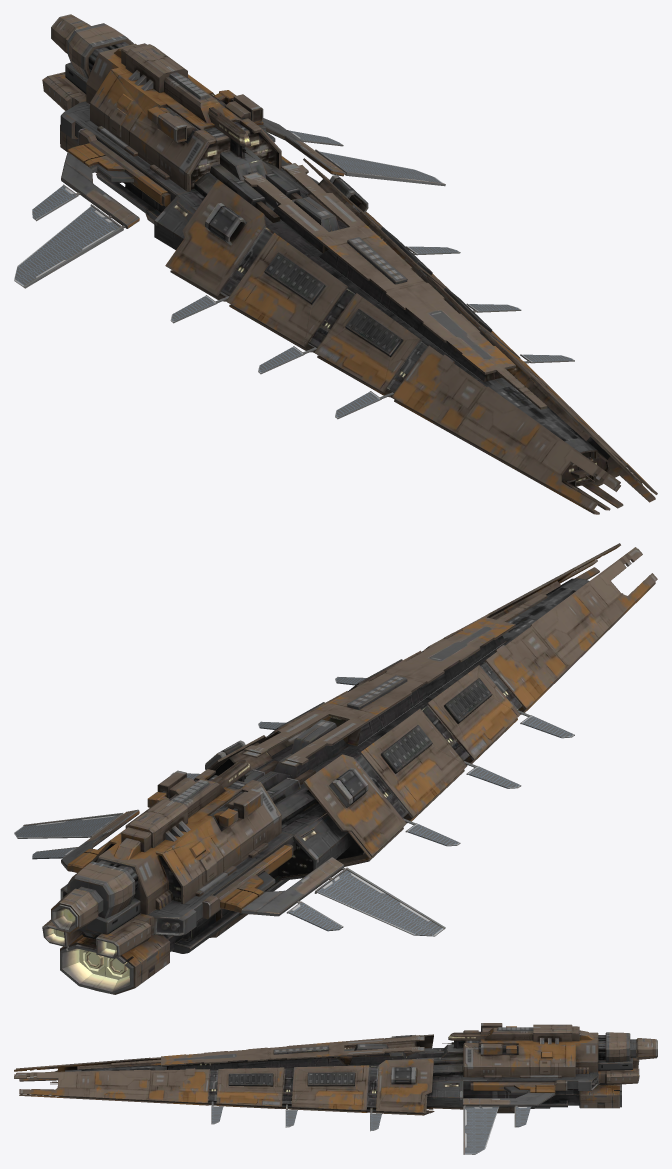
Rendered from 24702_lite.glb.
3 renders of one model, top to bottom at view 1: azimuth 30°, elevation 25°; view 2: azimuth 150°, elevation 25°; view 3: azimuth 270°, elevation 25°, orthographic. The views are drawn at different scales.
Parts seen in each view (by area): view 1: Mbc2_TShape1.001, Mbc2_TShape1.004, Mbc2_TShape1.005; view 2: Mbc2_TShape1.001, Mbc2_TShape1.004, Mbc2_TShape1.005; view 3: Mbc2_TShape1.001, Mbc2_TShape1.005.
Boxes of the visible parts, x1,y1,x2,y2 form: Mbc2_TShape1.001: [23, 14, 657, 514]; Mbc2_TShape1.004: [14, 185, 379, 418]; Mbc2_TShape1.005: [289, 130, 573, 361]; Mbc2_TShape1.001: [23, 543, 657, 994]; Mbc2_TShape1.004: [288, 715, 574, 936]; Mbc2_TShape1.005: [14, 677, 366, 859]; Mbc2_TShape1.001: [14, 1023, 657, 1154]; Mbc2_TShape1.005: [211, 1106, 530, 1154].
Bounding box in the file's own units: 2.09 × 0.6936 × 4.86.
Materials: 3 (3 with a texture image).
